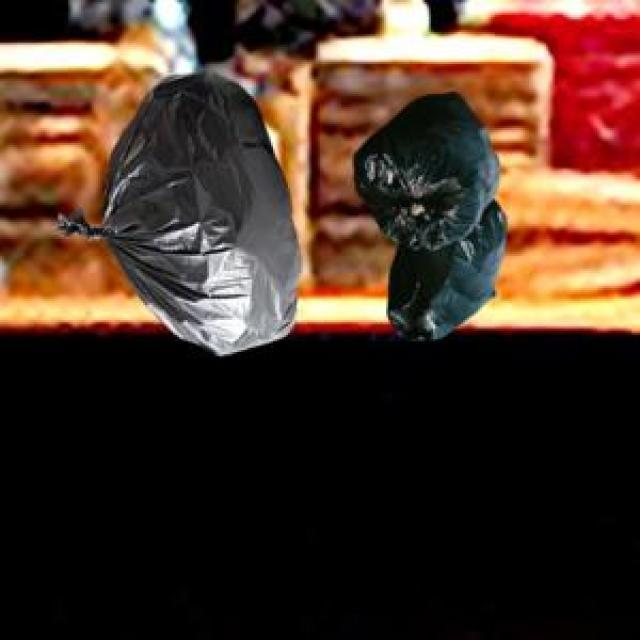waste: (59, 72, 299, 354), (355, 94, 505, 338)
